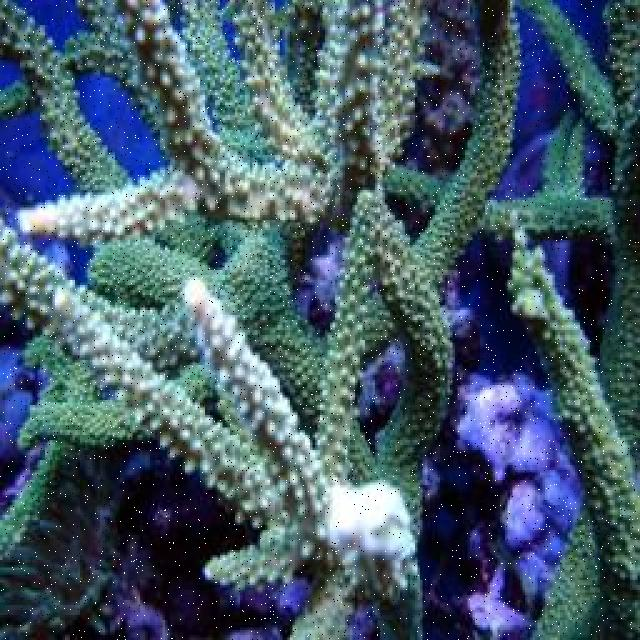reefs: (0, 0, 638, 638)
